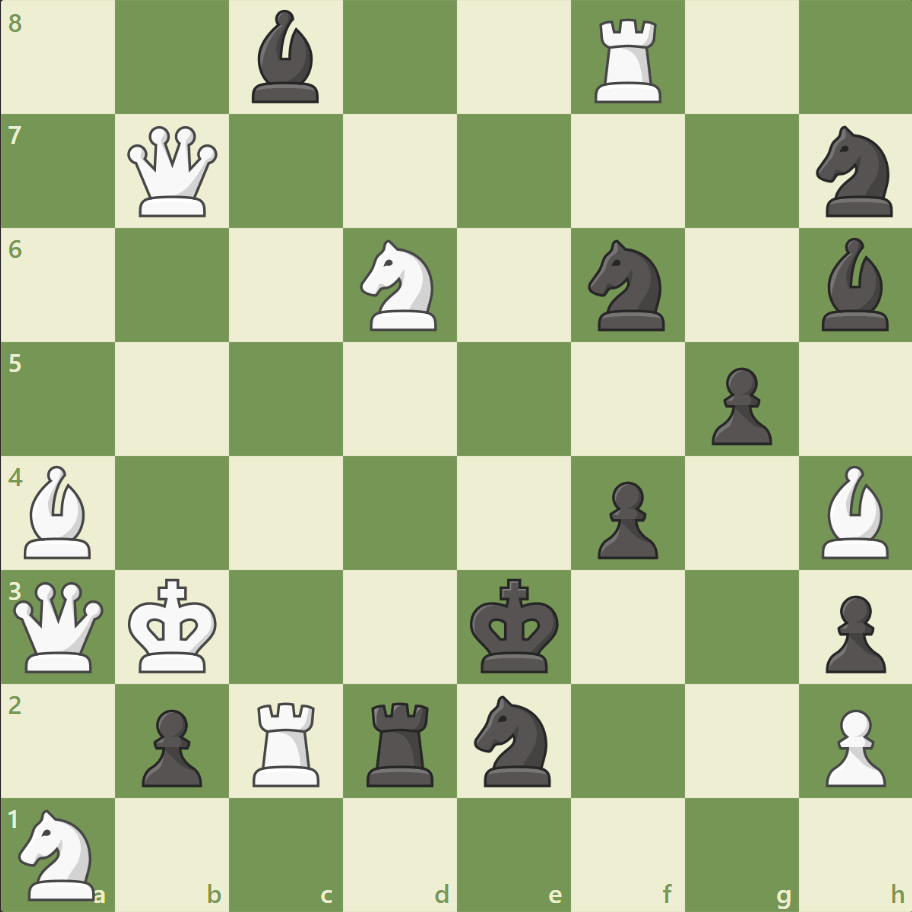B: (17, 460, 101, 563), (812, 460, 896, 563)
K: (124, 571, 224, 679)
N: (351, 234, 449, 337), (11, 802, 108, 904)
P: (815, 700, 889, 791)
Q: (124, 122, 223, 222), (10, 576, 109, 676)
R: (587, 12, 670, 109), (246, 693, 329, 790)
b: (244, 6, 328, 109), (812, 233, 896, 336)
k: (465, 571, 565, 679)
n: (579, 234, 676, 337), (465, 688, 562, 791), (806, 121, 903, 223)
p: (701, 359, 776, 450), (133, 700, 208, 791), (588, 473, 662, 564), (815, 586, 889, 677)
r: (360, 693, 442, 790)
